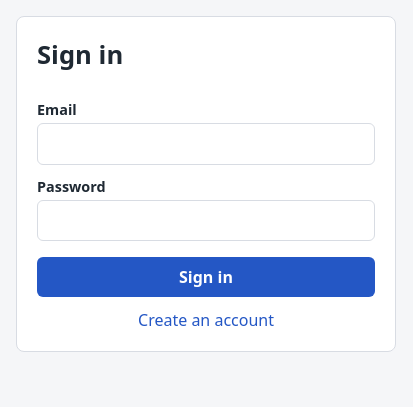
Test: LoginPage › shows the error message when login fails
Type "anna@example.com" into the field labelled "Email" at (206, 144), box [37,123,375,165]
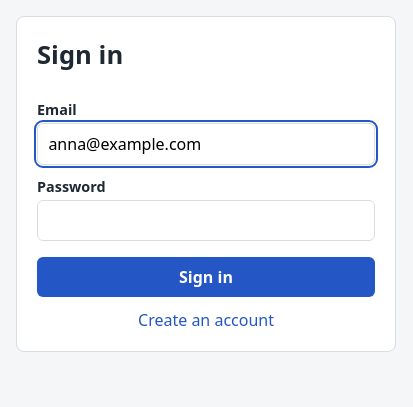
Type "wrong-password" into the password field labelled "Password" at (206, 220), box [37,200,375,241]
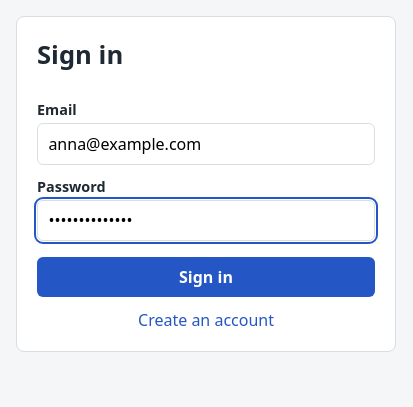
Click the button "Sign in" at (206, 277), box [37,257,375,297]
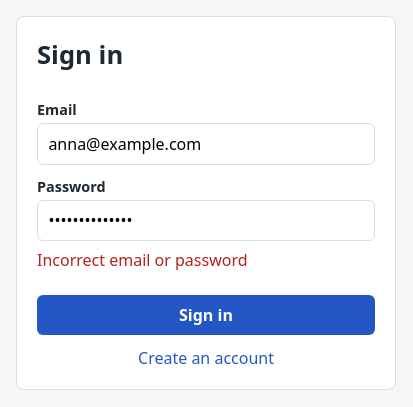
expect the message reads "Incorrect email or password": met, box [37,249,248,271]
